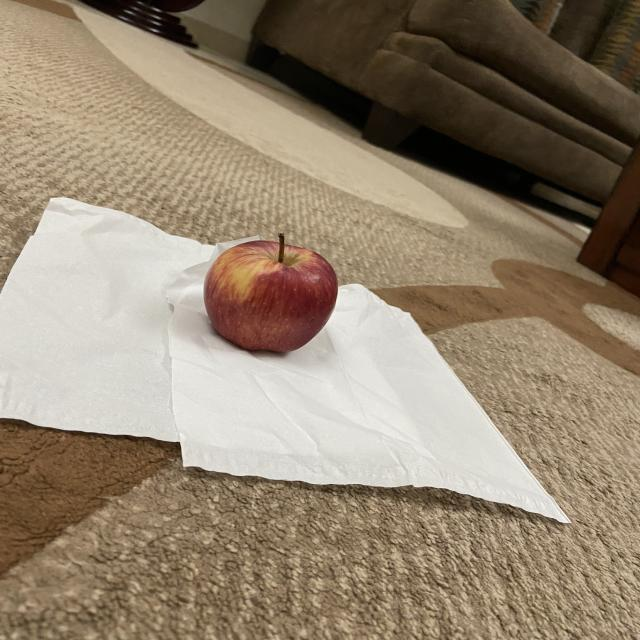apple: (206, 227, 343, 361)
